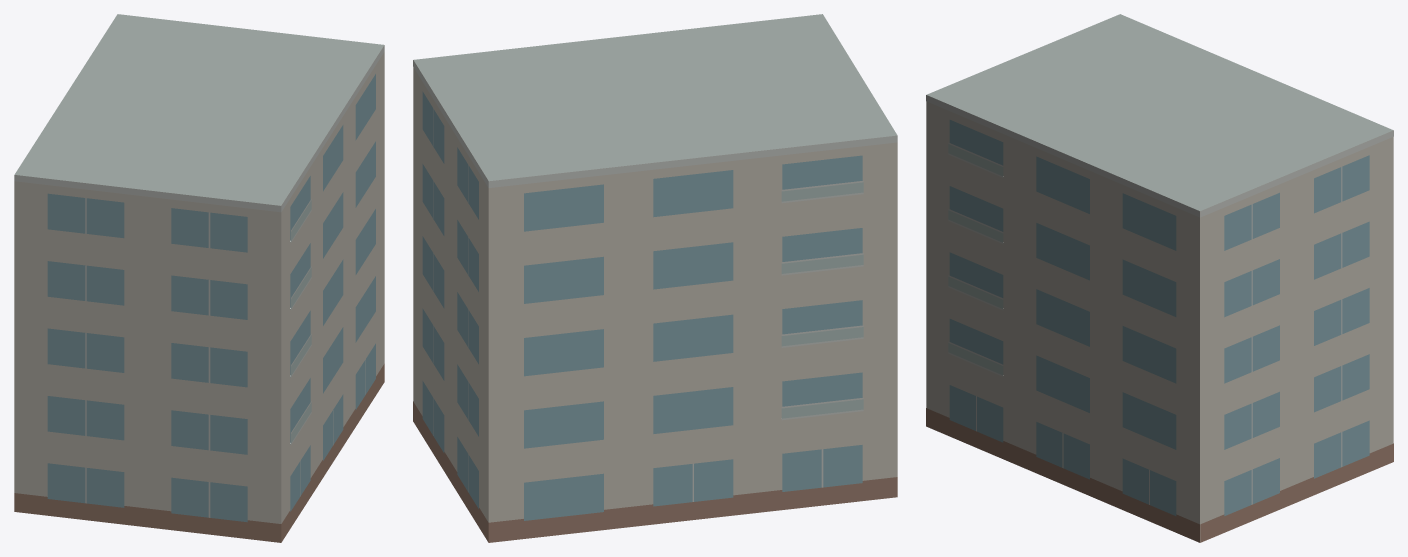
The model's file is survey-upis-32656496.glb.
3 renders of one model, left to right at view 1: azimuth 30°, elevation 25°; view 2: azimuth 150°, elevation 25°; view 3: azimuth 270°, elevation 25°, orthographic. The views are drawn at different scales.
Parts seen in each view (by area): view 1: survey-upis-32656496.tmp; view 2: survey-upis-32656496.tmp; view 3: survey-upis-32656496.tmp.
Part boxes in pixels (<box>): survey-upis-32656496.tmp: <box>14,14,384,542</box>; survey-upis-32656496.tmp: <box>413,14,897,542</box>; survey-upis-32656496.tmp: <box>926,14,1393,542</box>.
Size of the model in its own units: 16.21 by 12.7 by 16.23.
